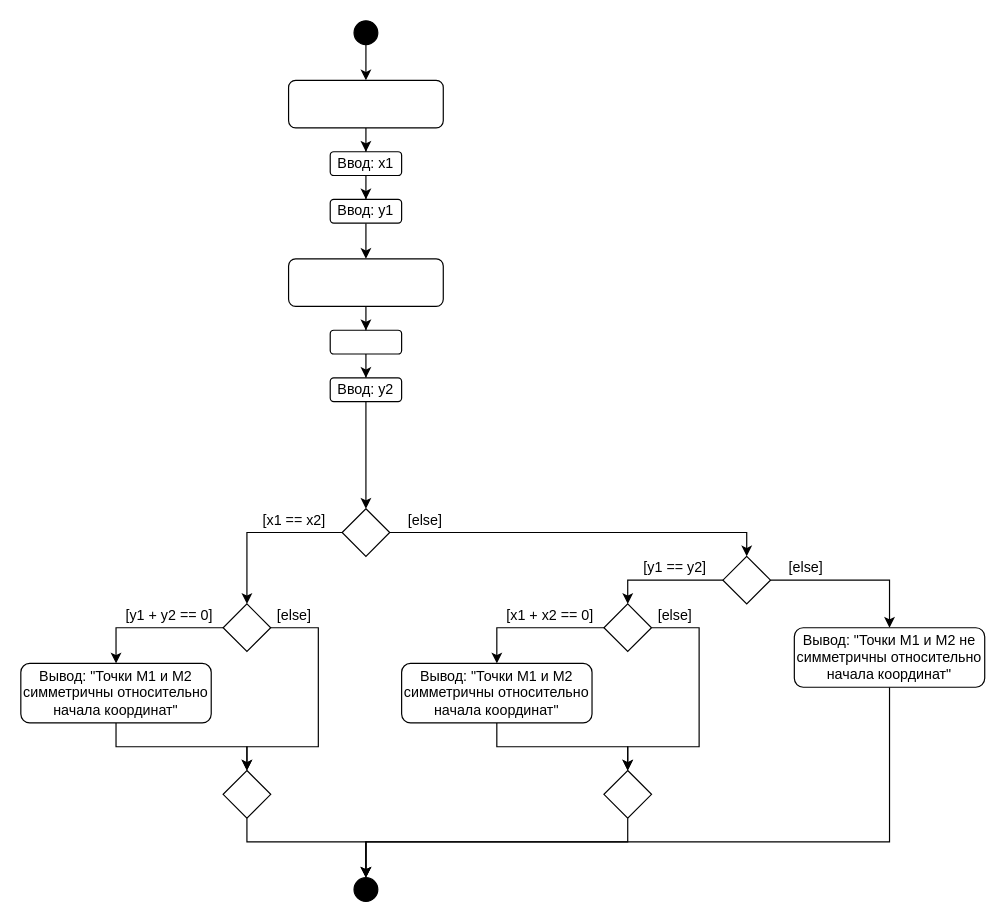
Some shapes in this 1006 by 922 pixel diagram are drawn without their labels. Each missing label, with the box of its shape:
Ввод: x2: (329, 329, 402, 354)
Вывод: "Введите координаты точки М1": (287, 79, 443, 128)
Вывод: "Введите координаты точки М2": (287, 258, 443, 306)
